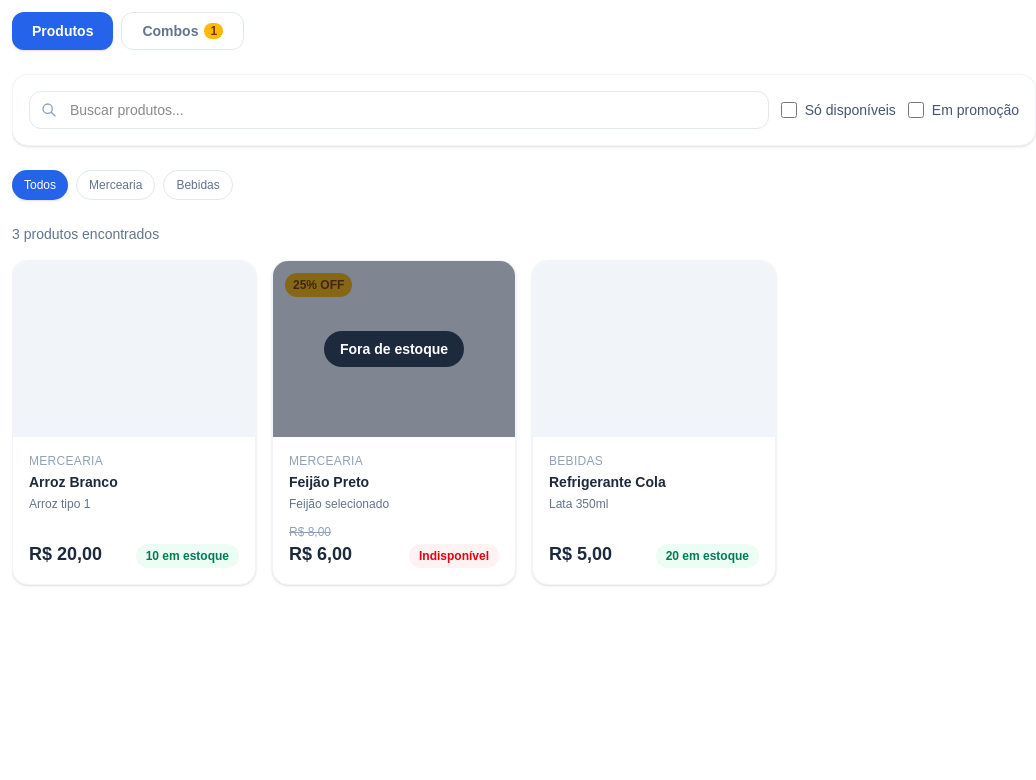
Test: CatalogoClient › filtra somente produtos disponíveis quando o checkbox é marcado
Click the checkbox labelled "Só disponíveis".
click(789, 110)  # box [781, 102, 797, 118]
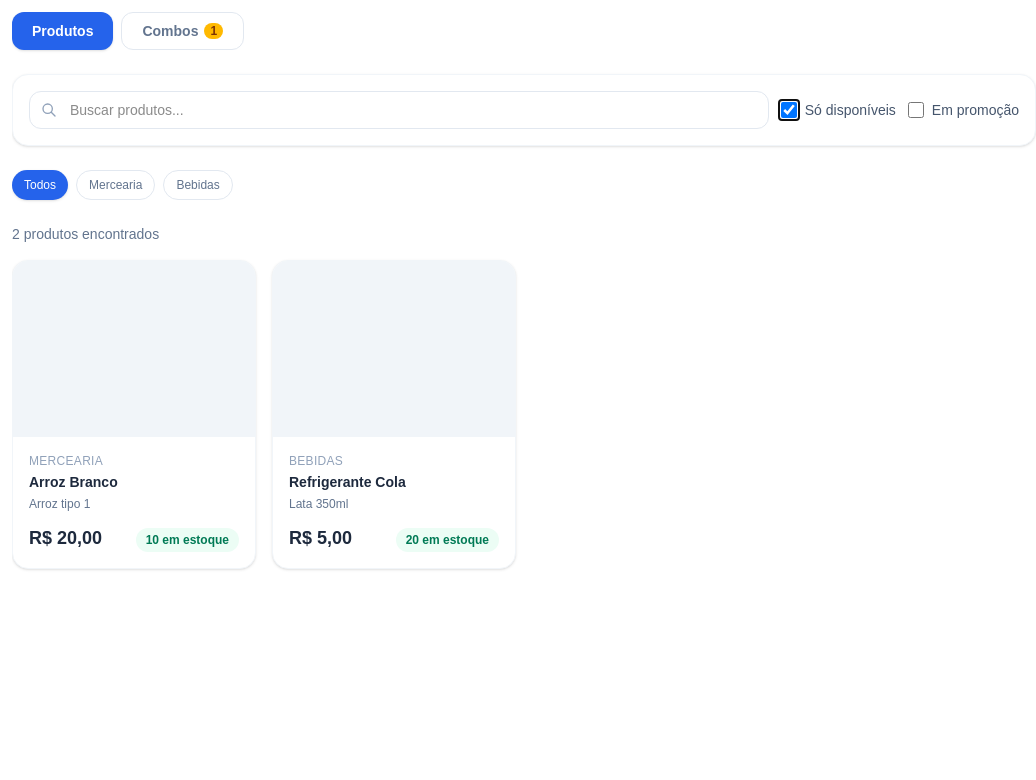
Now the text "2 produtos encontrados" is shown, box [12, 226, 159, 242]
Now the link "Feijão Preto" is gone
